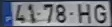1: (26, 2, 36, 24)
4: (14, 3, 25, 24)
7: (42, 3, 53, 24)
8: (54, 2, 67, 24)
G: (93, 3, 107, 24)
H: (76, 3, 92, 24)
